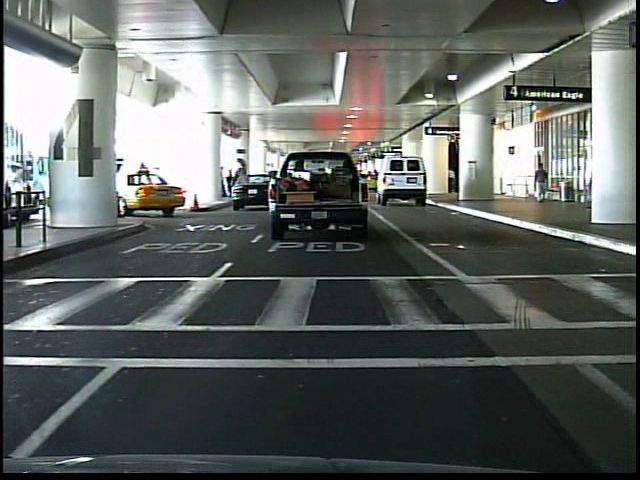person: (530, 157, 551, 208), (444, 165, 458, 198)
